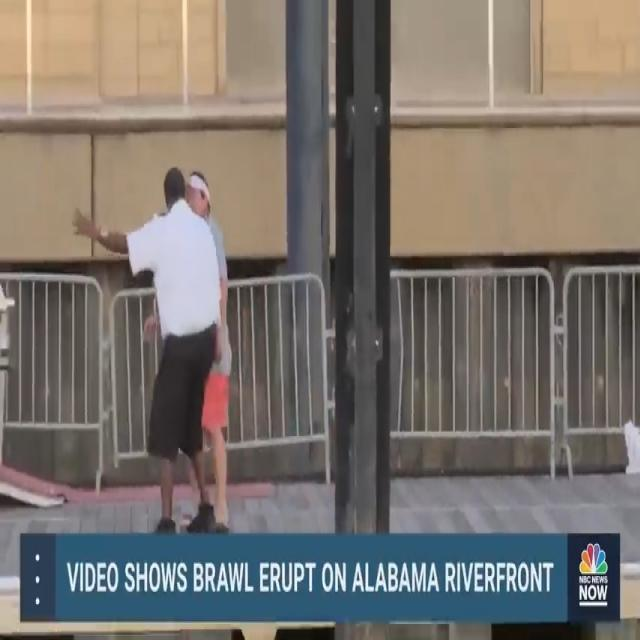non-fight: (64, 159, 258, 532)
